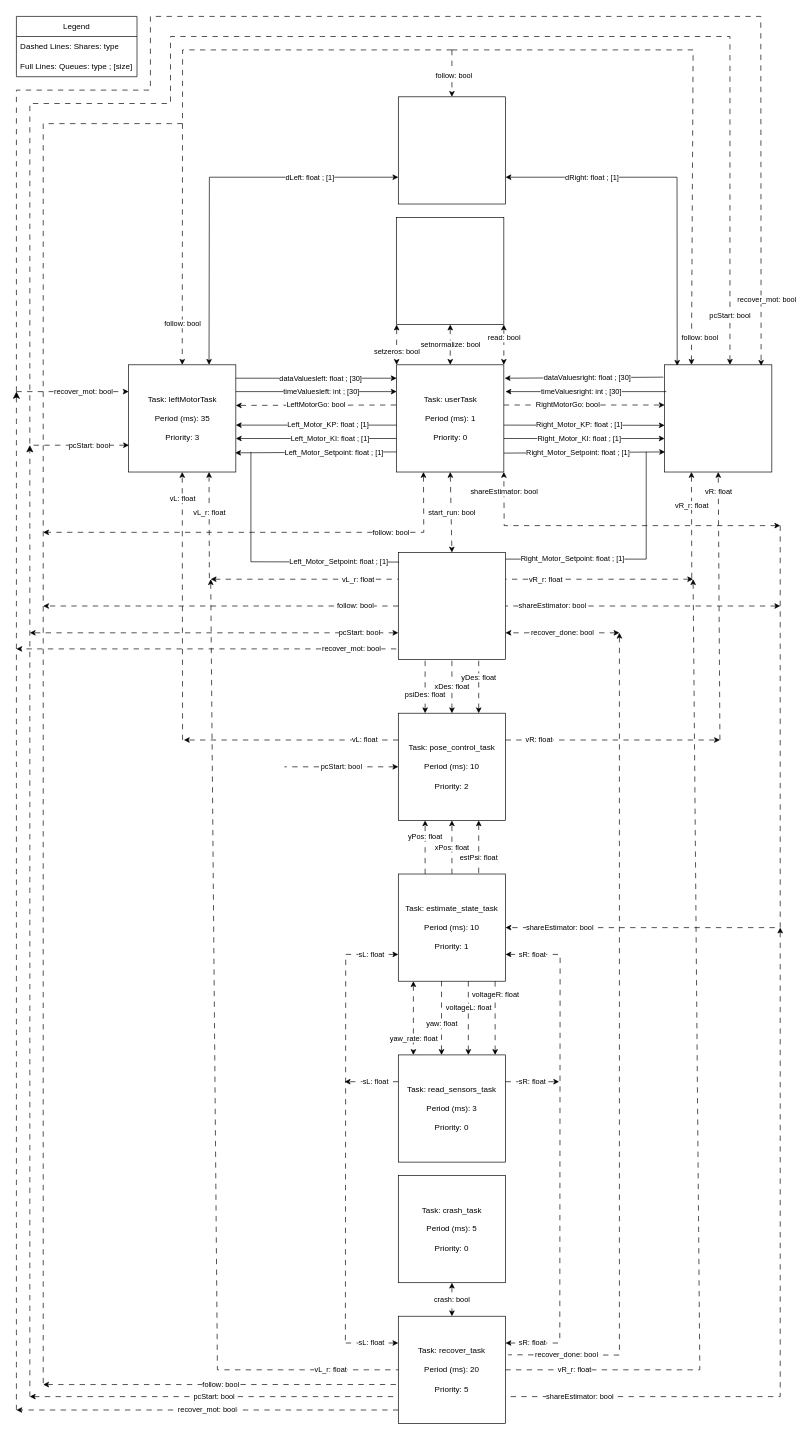
The diagram is 808 pixels wide and 1435 high, and some of its shapes have lost their labels. The centre of each missing label's shape, as x and y in pixels:
"Task: final_path_task Period (ms): 20 Priority: 2" belongs at pixel 452 606.
"Task: line_follow_task Period (ms): 10 Priority: 2" belongs at pixel 452 150.
"Task: rightMotorTask Period (ms): 35 Priority: 3" belongs at pixel 718 418.
"Task: sensor_task Period (ms): 10 Priority: 2" belongs at pixel 450 271.
